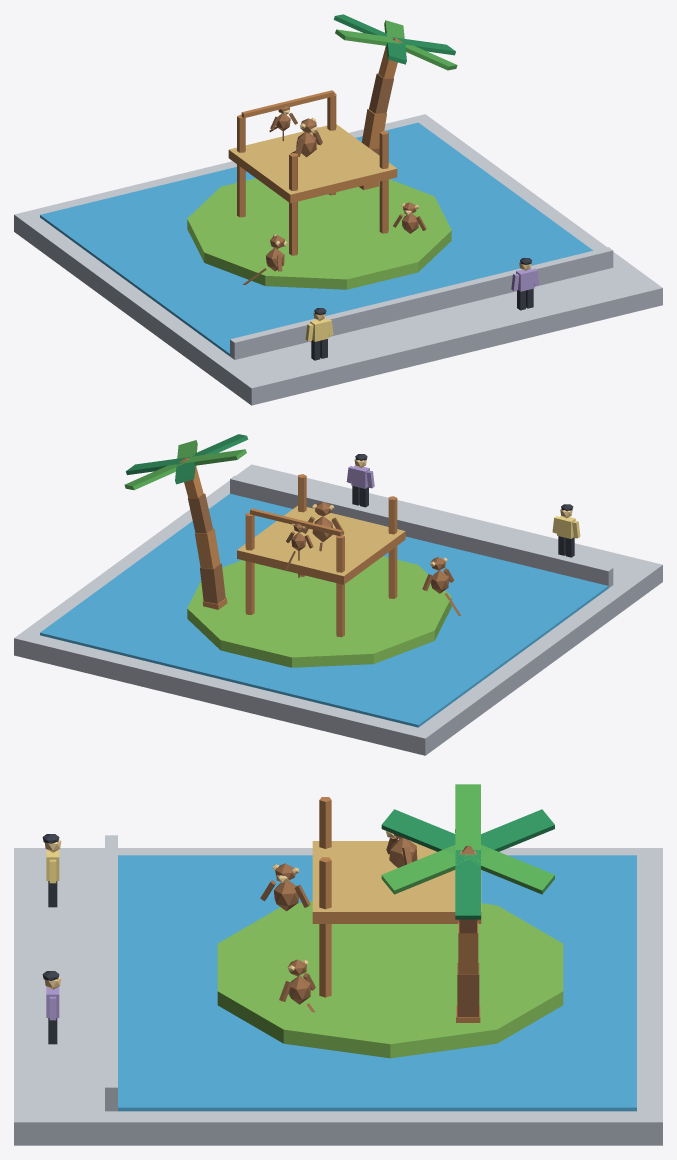
Rendered from zoo_monkey.glb.
3 renders of one model, top to bottom at view 1: azimuth 30°, elevation 25°; view 2: azimuth 150°, elevation 25°; view 3: azimuth 270°, elevation 25°, orthographic. The views are drawn at different scales.
Parts seen in each view (by area): view 1: zoo_monkey; view 2: zoo_monkey; view 3: zoo_monkey.
Part boxes in pixels (x1,y1,x2,y2): zoo_monkey: (14, 14, 662, 405); zoo_monkey: (14, 434, 662, 755); zoo_monkey: (14, 784, 662, 1145).
Bounding box in the file's own units: 1 × 0.4393 × 1.
